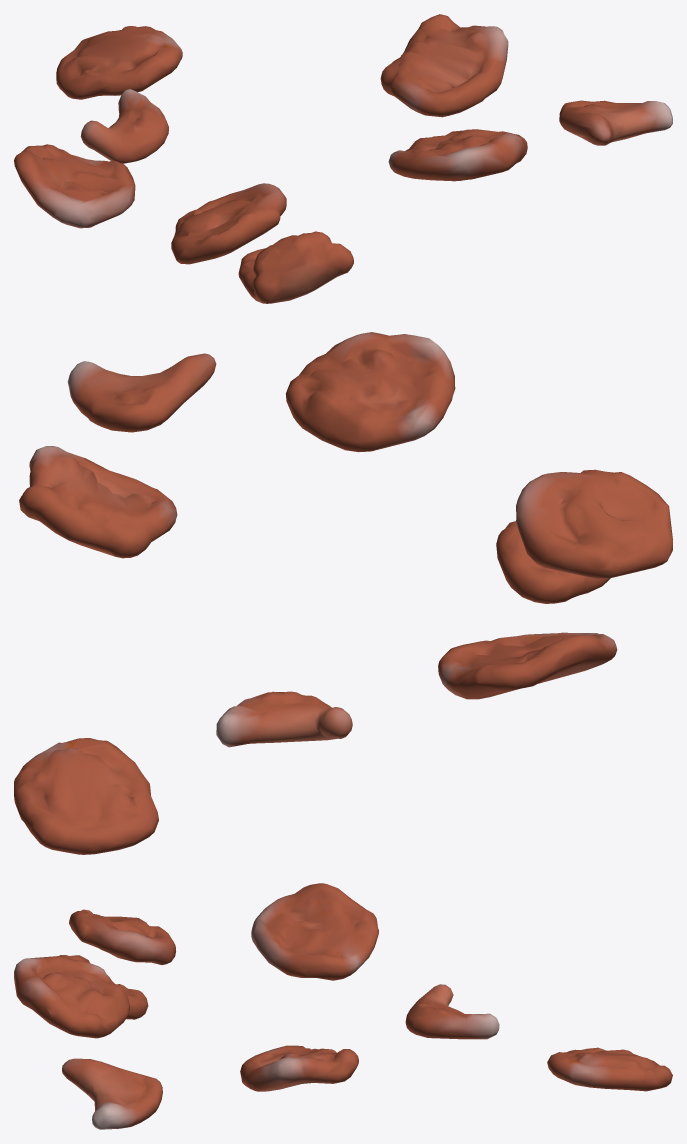
The picture shows the model from 3 angles, top to bottom: view 1: azimuth 30°, elevation 25°; view 2: azimuth 150°, elevation 25°; view 3: azimuth 270°, elevation 25°; orthographic projection. The views are drawn at different scales.
Parts seen in each view (by area): view 1: LOD 1_14118979198586646984_820756dedd5b3434c8e6bed8ae6a193b; view 2: LOD 1_14118979198586646984_820756dedd5b3434c8e6bed8ae6a193b; view 3: LOD 1_14118979198586646984_820756dedd5b3434c8e6bed8ae6a193b.
Part boxes in pixels (<box>): LOD 1_14118979198586646984_820756dedd5b3434c8e6bed8ae6a193b: <box>14,14,672,303</box>; LOD 1_14118979198586646984_820756dedd5b3434c8e6bed8ae6a193b: <box>14,332,672,854</box>; LOD 1_14118979198586646984_820756dedd5b3434c8e6bed8ae6a193b: <box>14,883,672,1129</box>.
Bounding box in the file's own units: 2.56 × 0.7239 × 2.93.
